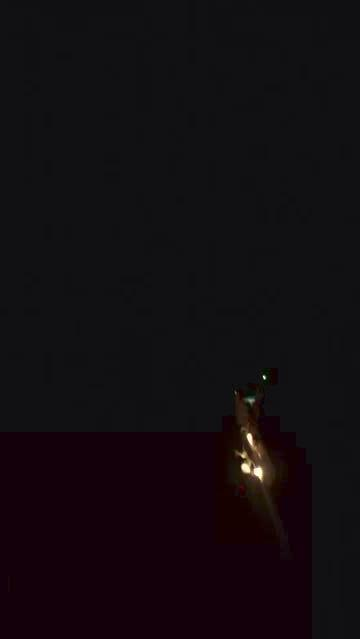Plane: (209, 330, 290, 555)
